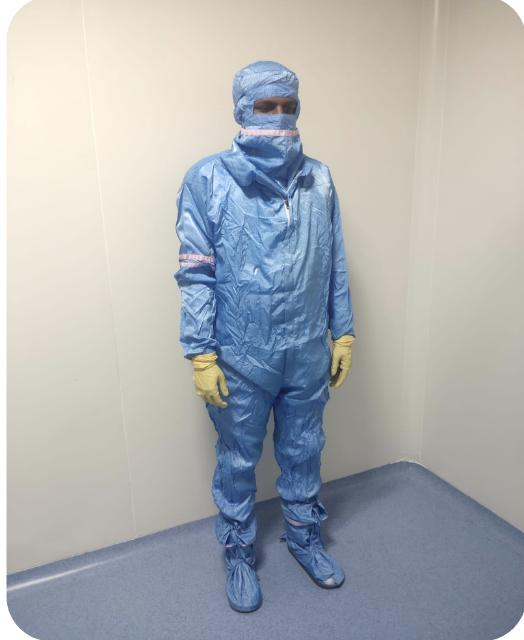boot_not_secured: (276, 480, 354, 606), (206, 480, 268, 628)
gloves_not_fitted_securely: (173, 336, 235, 416), (318, 317, 374, 399)
gown_torn: (244, 252, 272, 298)
headgear_not_secured_backside: (221, 58, 321, 170)
zip_not_secured: (258, 163, 308, 284)
